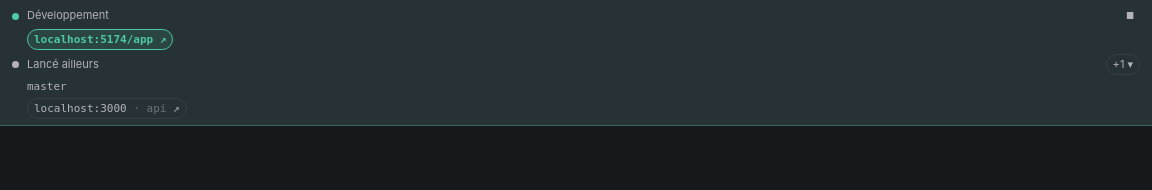
Scenario: montre en gris les serveurs du projet lancés ailleurs, sans doubler ceux de Pupitre
Expected: the text "Lancé ailleurs" is shown, x1=27 y1=57 x2=99 y2=71
Expected: the number of links "localhost:5174/app ↗" is 1, x1=27 y1=29 x2=174 y2=50
Step 1. Click the button "+1 ▾" → coordinates (1123, 64), box x1=1106 y1=54 x2=1140 y2=75
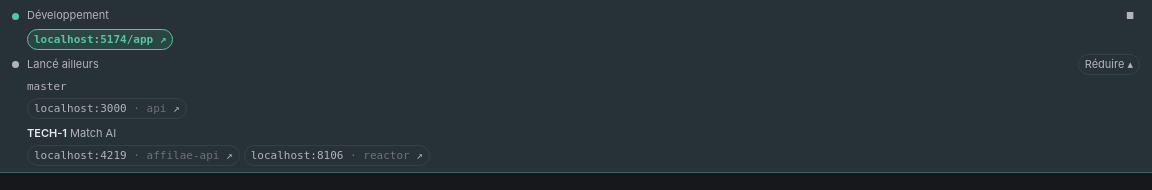
Expected: the element with class "launch-external-origin" reads "master", x1=27 y1=80 x2=67 y2=93
Expected: the number of elements with class "launch-external-group" is 2, x1=27 y1=80 x2=187 y2=119; x1=27 y1=126 x2=430 y2=166
Expected: the link with class "launch-external-origin" reads "TECH-1 Match AI", x1=27 y1=126 x2=116 y2=140
